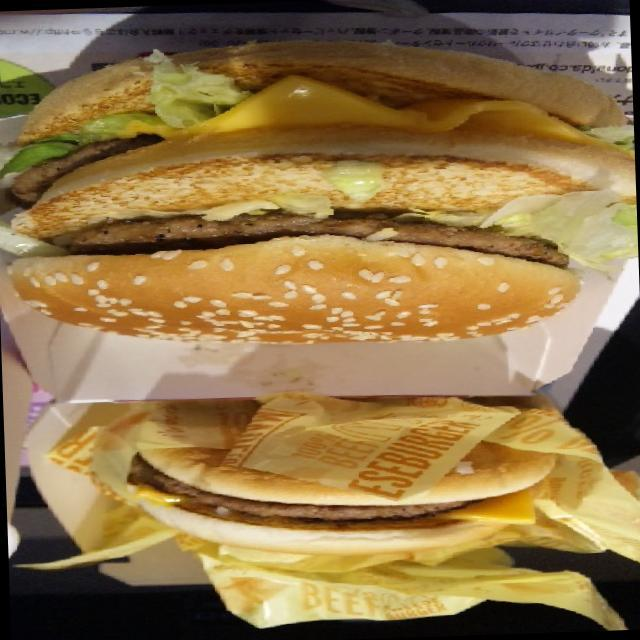Hamburger: (0, 38, 611, 386)
